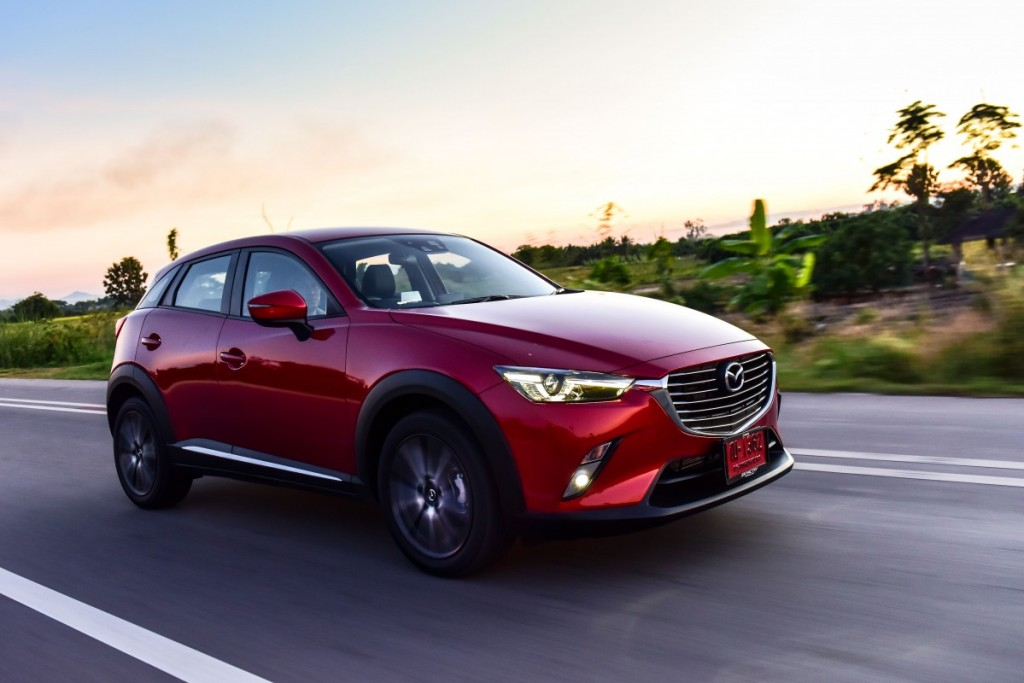pickup: (103, 223, 801, 580)
